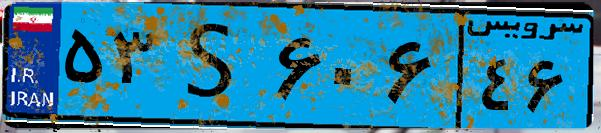0: (330, 28, 385, 110)
3: (110, 28, 158, 98)
4: (475, 38, 525, 113)
5: (57, 26, 110, 100)
6: (270, 28, 330, 110), (385, 28, 445, 110), (525, 38, 570, 115)
S: (158, 12, 270, 120)
